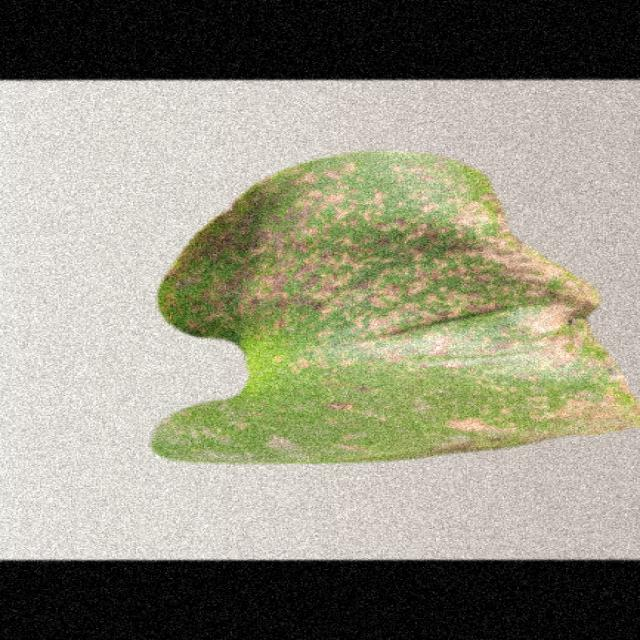daun berpenyakit bercak: (152, 151, 637, 462)
